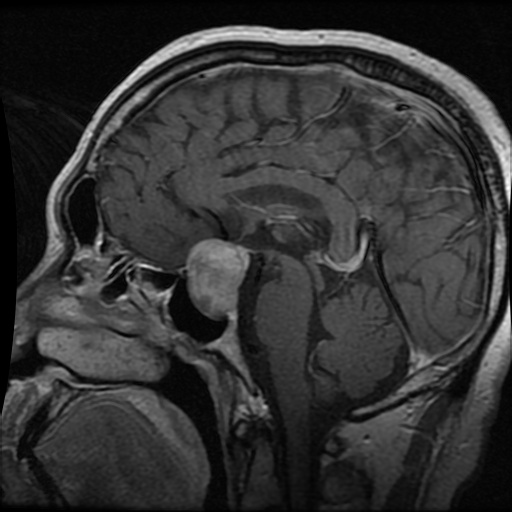pituitary: (186, 239, 245, 318)
